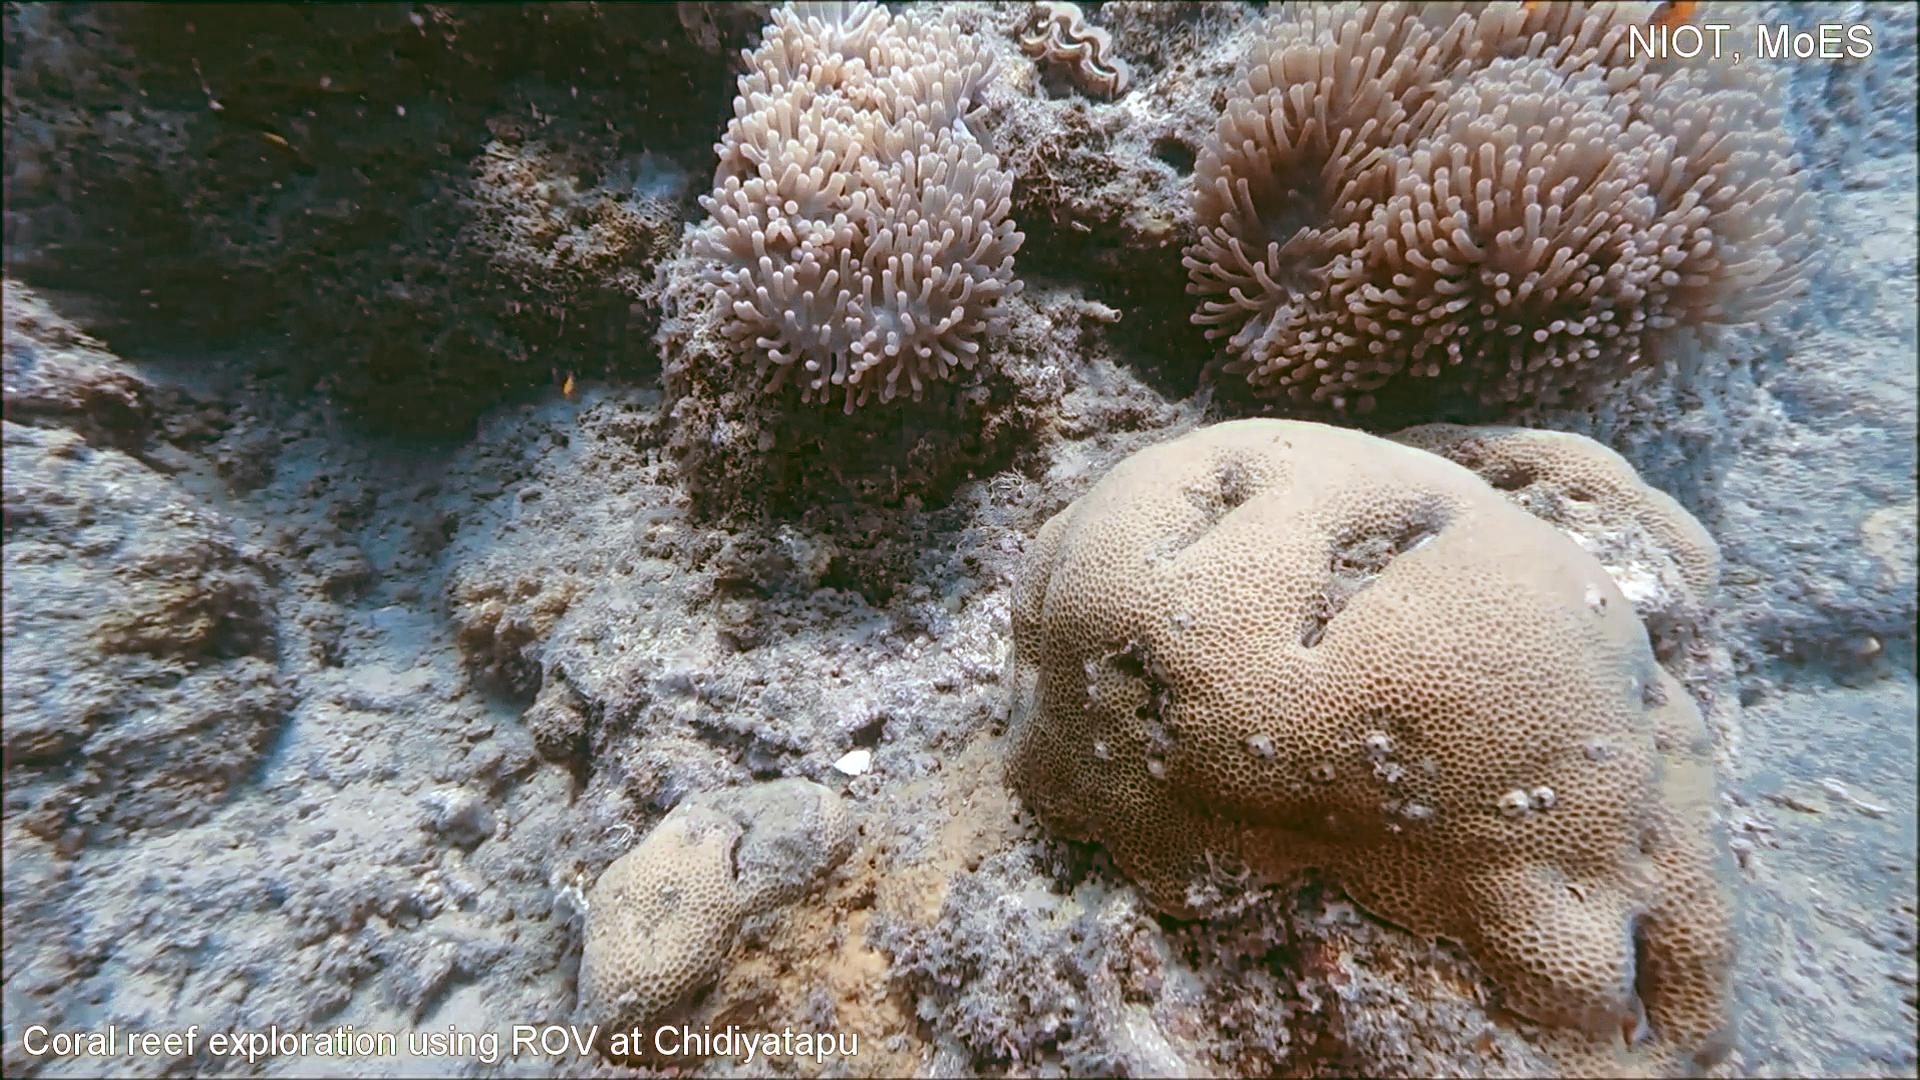Macrodactyla doreensis-Long tentacle Anemone: (1172, 0, 1844, 429), (655, 0, 1035, 422)
Tridacna Clam: (1000, 0, 1138, 111)
